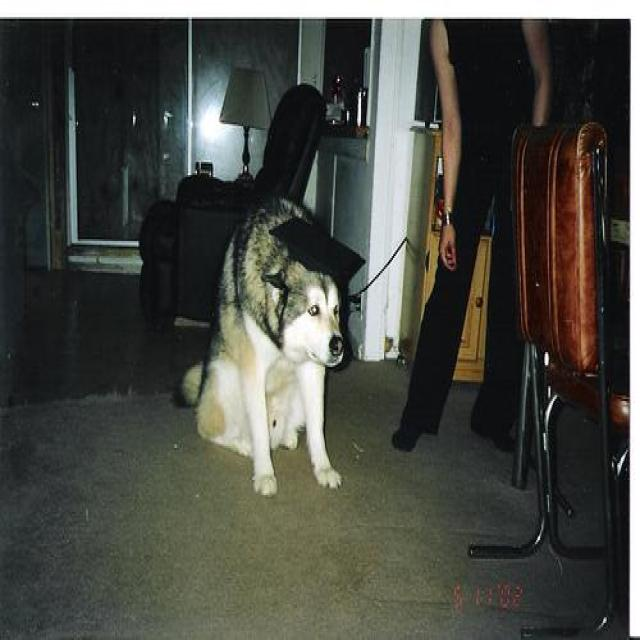People: (413, 3, 539, 501)
chair: (505, 120, 640, 594), (138, 82, 334, 347)
dog: (174, 206, 384, 529)
